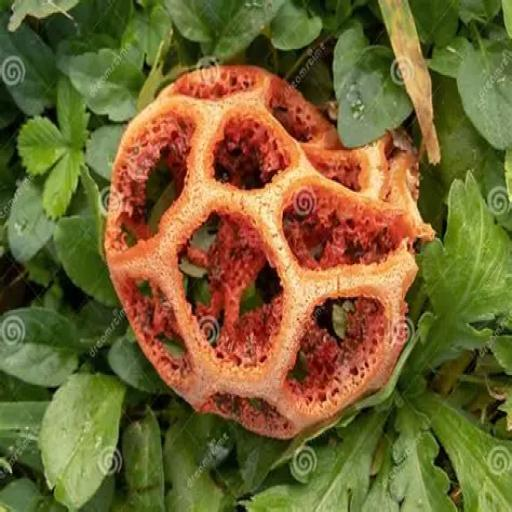mushroom: (102, 54, 427, 441)
